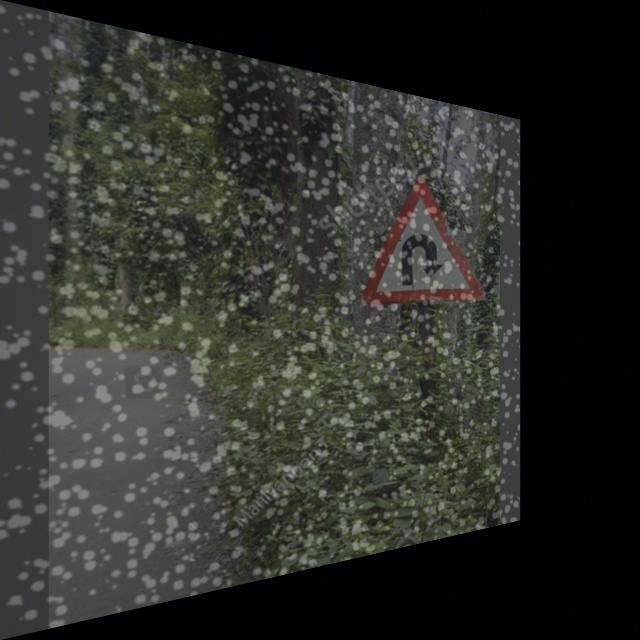Right_Hair_Pin_Bend: (364, 167, 484, 302)
